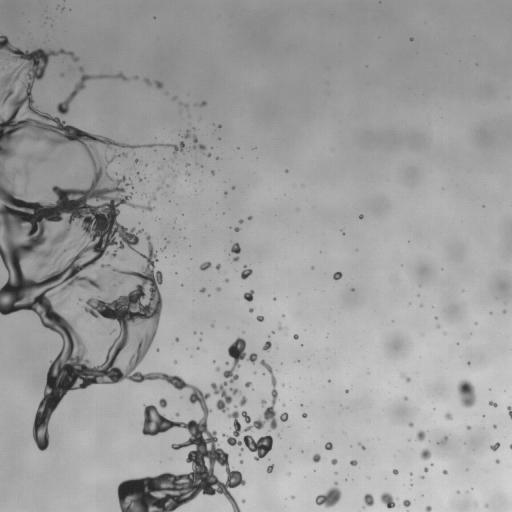droplet: (222, 360, 278, 460), (315, 482, 341, 507), (457, 380, 476, 407), (380, 492, 395, 508), (241, 266, 252, 279), (363, 493, 374, 506), (420, 448, 431, 460), (243, 290, 254, 301), (231, 242, 240, 254), (200, 261, 211, 270), (416, 430, 425, 441), (262, 341, 271, 350), (490, 442, 499, 451), (239, 396, 247, 406), (159, 398, 167, 408), (280, 412, 288, 422), (312, 453, 320, 462), (230, 388, 241, 394), (154, 80, 162, 88), (66, 149, 74, 157), (333, 272, 342, 279), (267, 464, 274, 473), (325, 442, 332, 450), (403, 499, 410, 507), (488, 401, 497, 407), (445, 412, 452, 419), (144, 78, 150, 85), (245, 381, 252, 387), (257, 315, 263, 321), (277, 324, 283, 330), (331, 458, 337, 464), (199, 101, 206, 106), (350, 460, 357, 465), (121, 152, 127, 157), (261, 399, 266, 405), (425, 506, 431, 511), (161, 246, 166, 251), (233, 256, 238, 261), (200, 287, 205, 292), (293, 334, 298, 339), (408, 422, 413, 427), (393, 469, 398, 474), (216, 264, 220, 270), (234, 227, 239, 231), (302, 413, 307, 417), (424, 467, 428, 472), (79, 67, 83, 71), (135, 159, 139, 163), (185, 171, 189, 175), (23, 191, 27, 195), (239, 219, 243, 223), (225, 278, 229, 282), (216, 287, 220, 291), (249, 308, 253, 312), (111, 328, 115, 332), (443, 470, 447, 474), (216, 366, 219, 371), (444, 436, 447, 441), (409, 37, 413, 40), (158, 166, 162, 169), (173, 173, 176, 177), (157, 186, 160, 190), (359, 215, 363, 218), (345, 389, 349, 392), (467, 425, 470, 429), (496, 459, 499, 463), (242, 499, 245, 503), (134, 76, 137, 79), (173, 96, 176, 99), (207, 153, 210, 156), (211, 171, 214, 174), (248, 216, 251, 219), (122, 256, 125, 259), (79, 298, 82, 301), (503, 310, 506, 313), (176, 413, 179, 416), (493, 425, 496, 428), (291, 495, 294, 498), (509, 444, 511, 448), (186, 163, 188, 166), (139, 178, 141, 181), (351, 288, 353, 291), (435, 316, 437, 319), (211, 324, 213, 327), (436, 325, 439, 327), (175, 338, 178, 340), (174, 360, 176, 363), (225, 362, 228, 364), (467, 362, 470, 364), (404, 397, 407, 399), (62, 7, 64, 9), (61, 154, 63, 156), (54, 159, 56, 161), (162, 180, 164, 182), (224, 192, 226, 194), (167, 240, 169, 242), (272, 331, 274, 333), (287, 473, 289, 475), (421, 476, 423, 478)
ligament: (0, 35, 241, 511), (211, 337, 257, 412), (57, 72, 127, 114), (183, 130, 206, 152), (400, 374, 410, 382), (358, 442, 365, 449), (507, 406, 511, 418), (179, 103, 187, 107)
